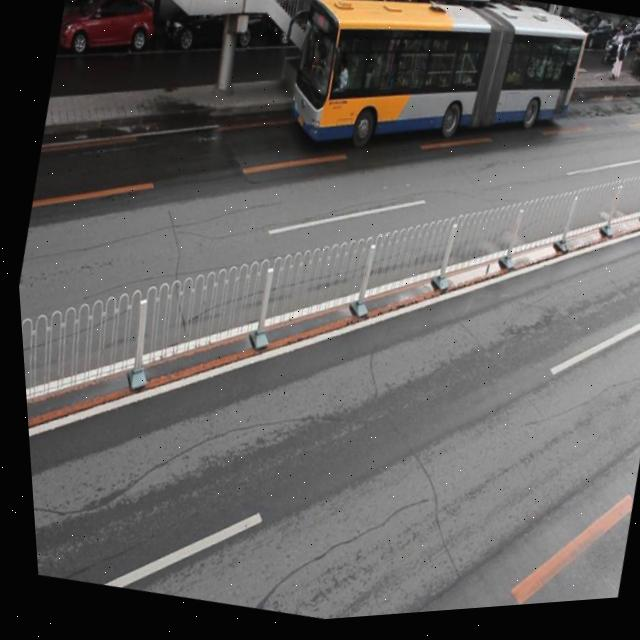car: (53, 0, 159, 68), (156, 0, 264, 64), (346, 0, 432, 69), (260, 0, 344, 64)
van: (275, 0, 594, 199)
